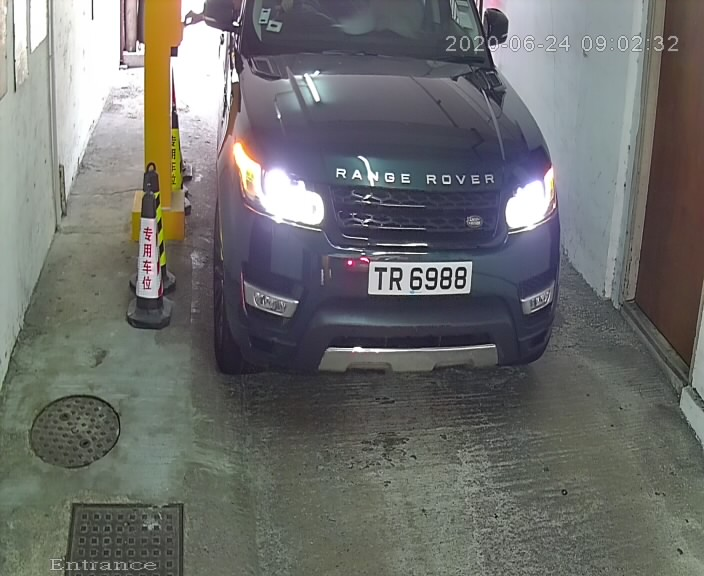privatecar: (197, 1, 564, 391)
